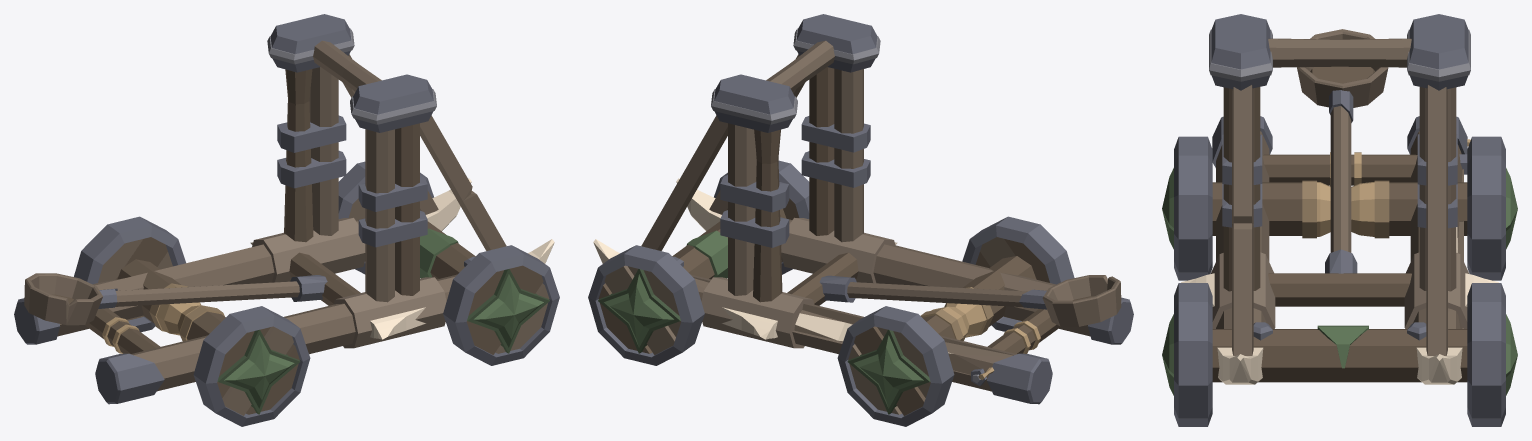
File: _CATAPULT.fbx
3 views of the same model, side by side, from view 1: azimuth 30°, elevation 25°; view 2: azimuth 150°, elevation 25°; view 3: azimuth 270°, elevation 25° (orthographic). The views are drawn at different scales.
Parts seen in each view (by area): view 1: CATAPULT; view 2: CATAPULT; view 3: CATAPULT.
Part boxes in pixels (left/top/right/bottom): CATAPULT: left=14, top=14, right=559, bottom=426; CATAPULT: left=588, top=14, right=1133, bottom=426; CATAPULT: left=1162, top=14, right=1517, bottom=426.
Bounding box in the file's own units: 415 × 227 × 220.
